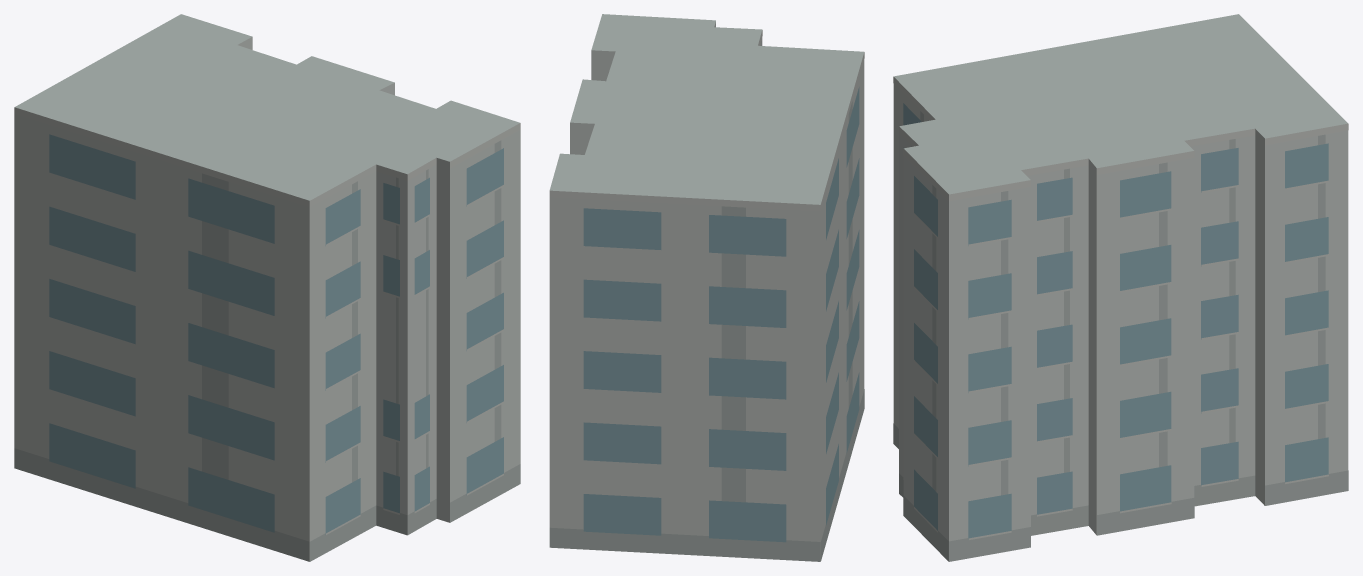
The model's file is survey-upis-32537603.glb.
3 views of the same model, side by side, from view 1: azimuth 30°, elevation 25°; view 2: azimuth 150°, elevation 25°; view 3: azimuth 270°, elevation 25° (orthographic). The views are drawn at different scales.
Visible parts, largest first — view 1: survey-upis-32537603.tmp; view 2: survey-upis-32537603.tmp; view 3: survey-upis-32537603.tmp.
Part boxes in pixels (bbox=[...]): survey-upis-32537603.tmp: bbox=[14, 14, 520, 561]; survey-upis-32537603.tmp: bbox=[549, 14, 864, 561]; survey-upis-32537603.tmp: bbox=[893, 14, 1348, 561].
Size of the model in its own units: 13.76 by 13.05 by 14.66.
